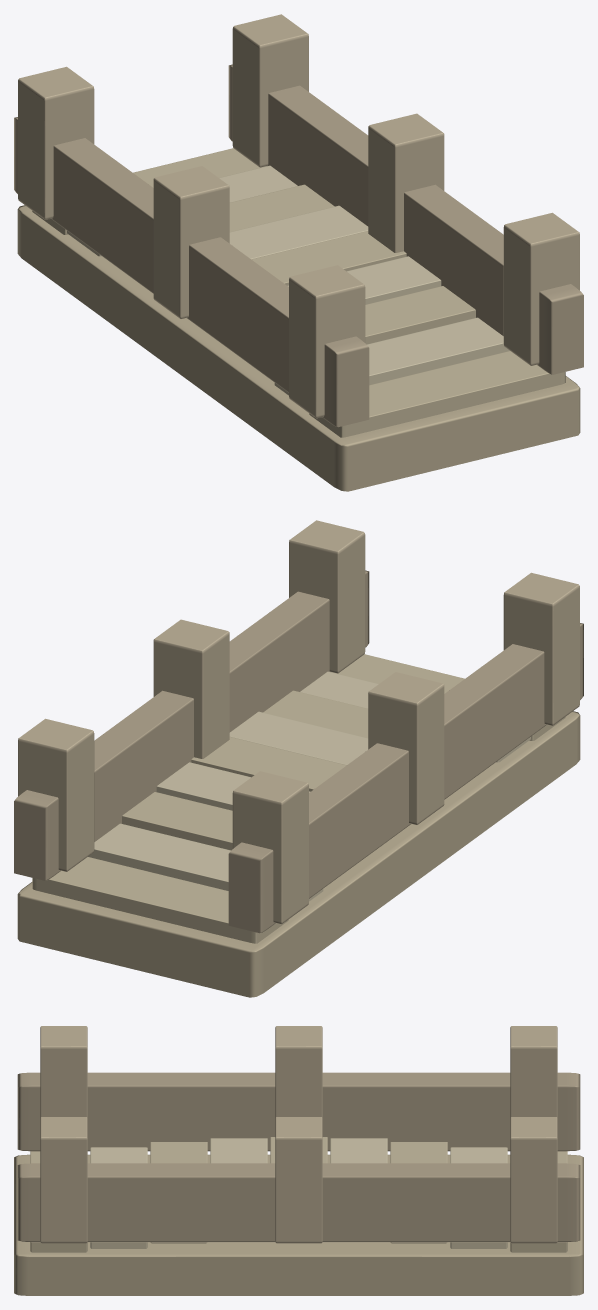
File: bridge-0.glb
3 views of the same model, one above another, from view 1: azimuth 30°, elevation 25°; view 2: azimuth 150°, elevation 25°; view 3: azimuth 270°, elevation 25° (orthographic). The views are drawn at different scales.
Parts seen in each view (by area): view 1: bridge-0-0; view 2: bridge-0-0; view 3: bridge-0-0.
Boxes of the visible parts, bbox=[...] form: bridge-0-0: bbox=[14, 14, 583, 491]; bridge-0-0: bbox=[14, 520, 583, 997]; bridge-0-0: bbox=[14, 1026, 583, 1295].
Bounding box in the file's own units: 1.06 × 0.725 × 2.28.
